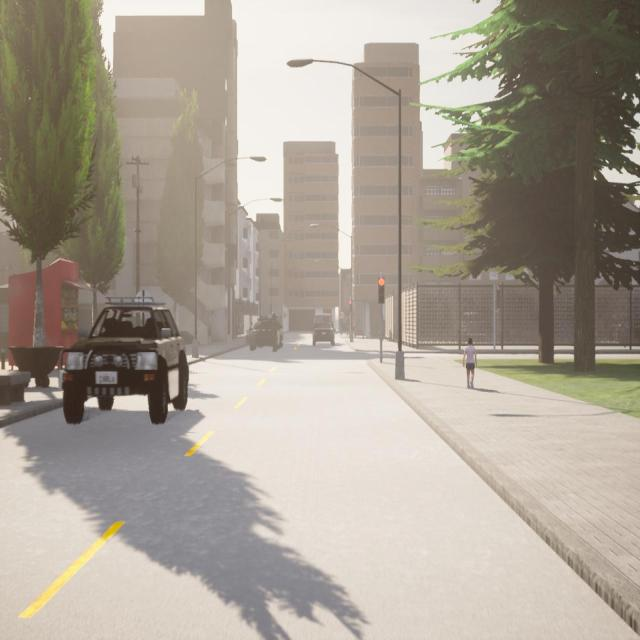Pedestrian: (462, 337, 477, 388)
Traffic_Signs: (339, 312, 345, 319)
Vehicle: (63, 294, 188, 424), (250, 315, 283, 353), (312, 321, 336, 347)
traffic_light: (378, 277, 384, 303), (496, 289, 502, 309), (349, 301, 352, 311)
